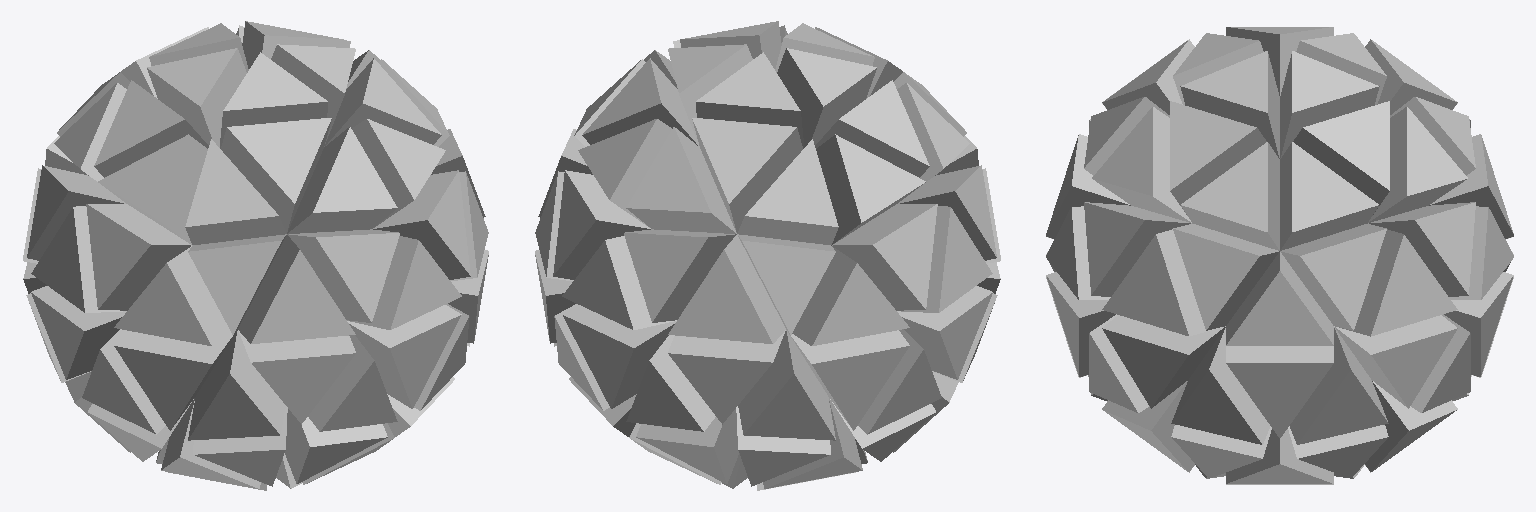
File: testball.obj
The picture shows the model from 3 angles: view 1: azimuth 30°, elevation 25°; view 2: azimuth 150°, elevation 25°; view 3: azimuth 270°, elevation 25°; orthographic projection.
Parts seen in each view (by area): view 1: Icosphere; view 2: Icosphere; view 3: Icosphere.
Part boxes in pixels (left/top/right/bottom): Icosphere: left=23, top=21, right=488, bottom=490; Icosphere: left=535, top=21, right=1000, bottom=490; Icosphere: left=1046, top=27, right=1513, bottom=484.
Size of the model in its own units: 1.33 by 1.36 by 1.36.